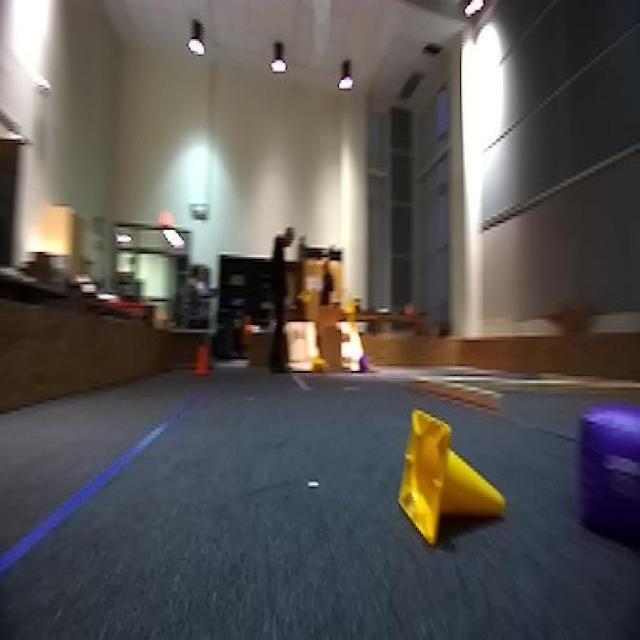frc_cone: (395, 407, 508, 550), (310, 356, 328, 376)
frc_cube: (576, 404, 640, 534), (358, 351, 371, 371)
